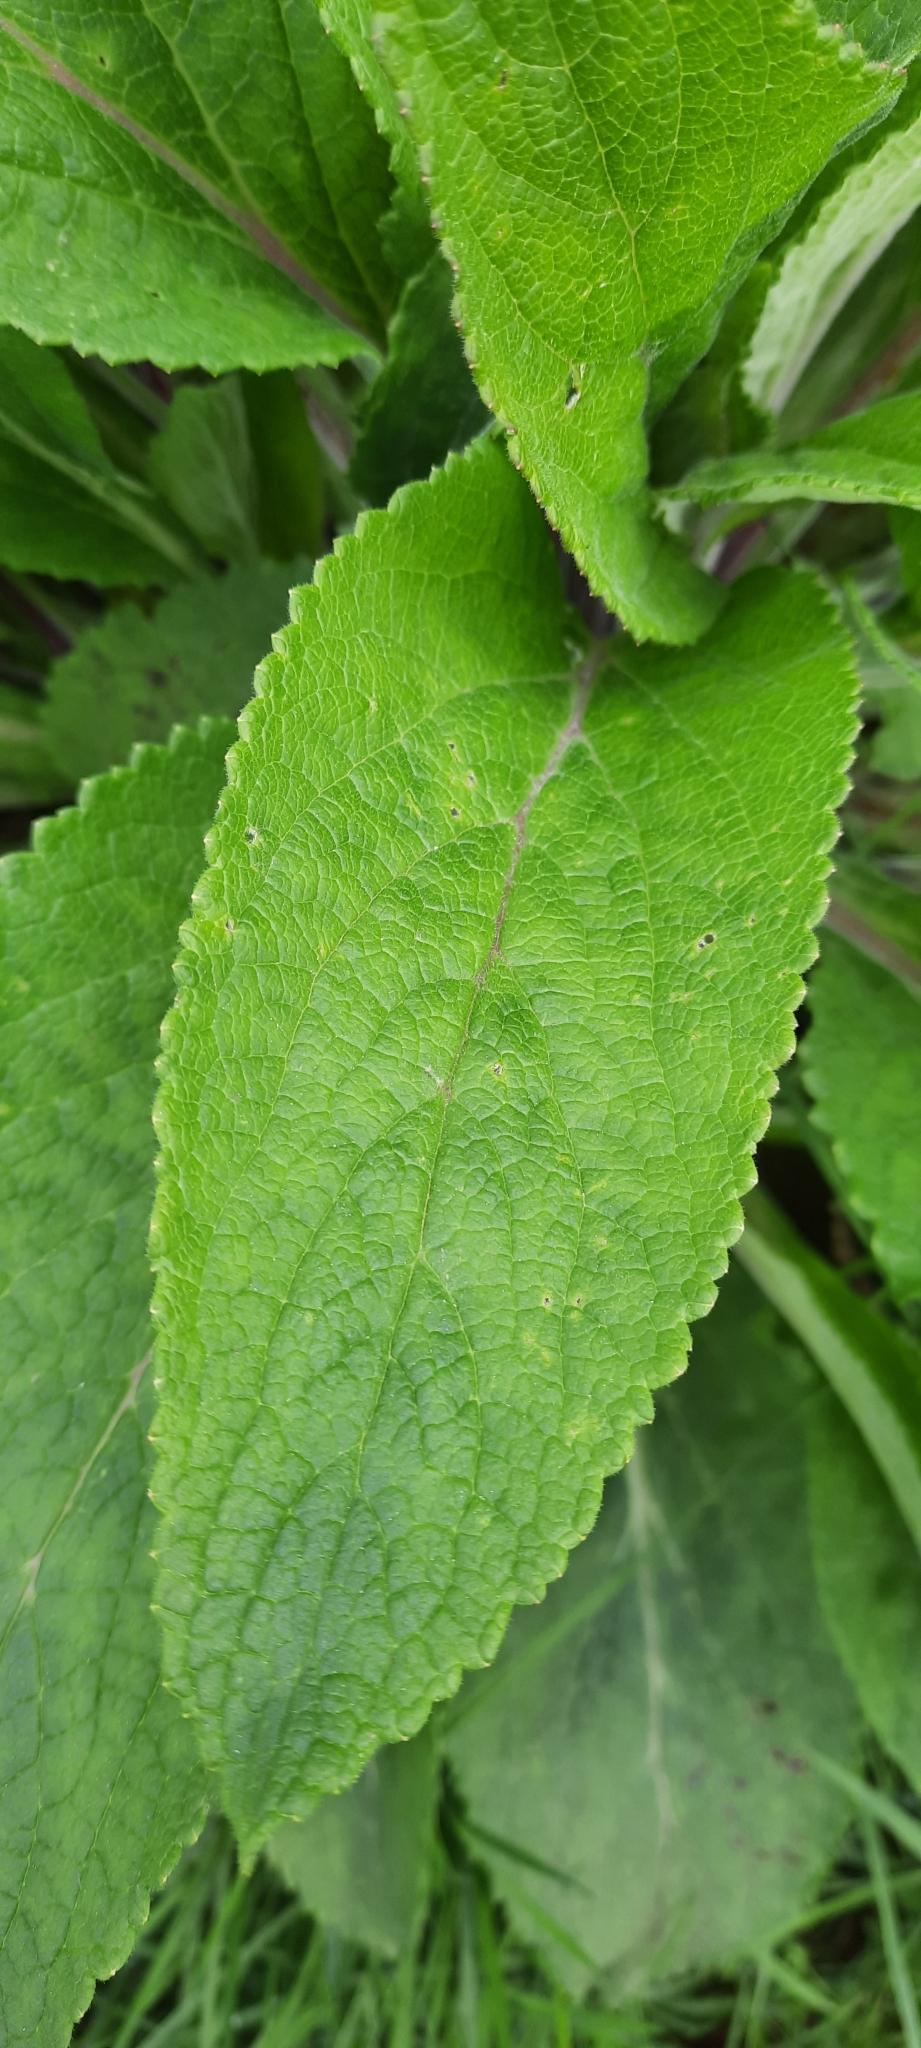Digitalis L: (56, 360, 911, 1883)
